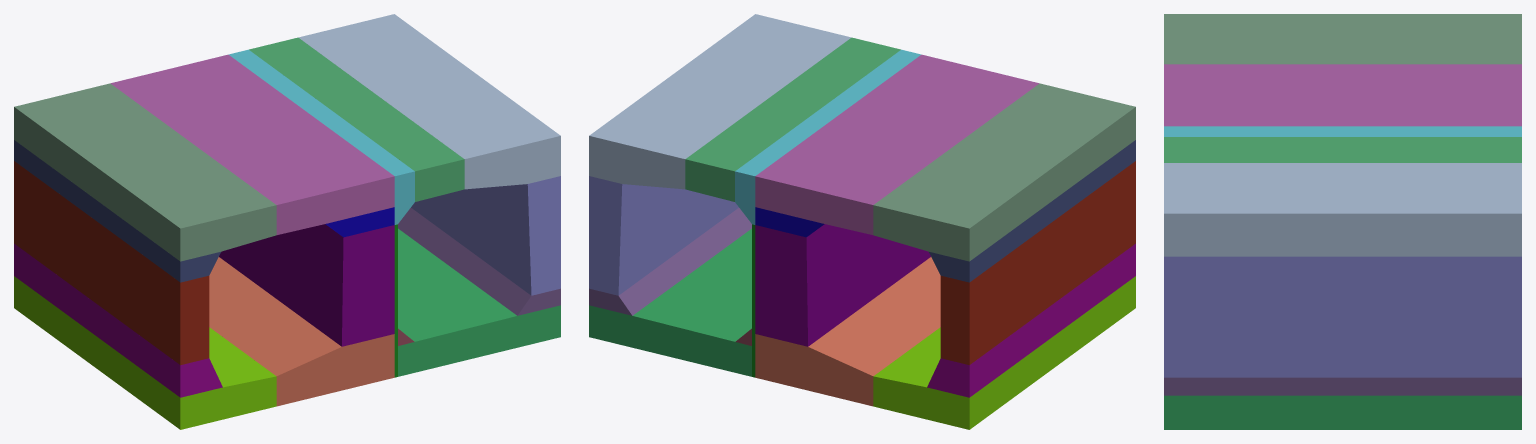
The model's file is hole_7.obj.
3 views of the same model, side by side, from view 1: azimuth 30°, elevation 25°; view 2: azimuth 150°, elevation 25°; view 3: azimuth 270°, elevation 25° (orthographic). The views are drawn at different scales.
Visible parts, largest first — view 1: geometry_0, geometry_7, geometry_6, geometry_15, geometry_11, geometry_9, geometry_10, geometry_12, geometry_4, geometry_3, geometry_14, geometry_1 (+4 smaller); view 2: geometry_0, geometry_7, geometry_6, geometry_15, geometry_11, geometry_9, geometry_10, geometry_12, geometry_4, geometry_3, geometry_14, geometry_1 (+4 smaller); view 3: geometry_12, geometry_6, geometry_7, geometry_0, geometry_10, geometry_3, geometry_1, geometry_2.
Boxes of the visible parts, left/top/right/bottom form: geometry_0: left=14, top=83, right=276, bottom=261; geometry_7: left=110, top=54, right=394, bottom=234; geometry_6: left=298, top=14, right=560, bottom=189; geometry_15: left=14, top=161, right=209, bottom=365; geometry_11: left=219, top=224, right=394, bottom=346; geometry_9: left=209, top=257, right=394, bottom=406; geometry_10: left=398, top=228, right=560, bottom=376; geometry_12: left=411, top=176, right=560, bottom=295; geometry_4: left=14, top=276, right=276, bottom=429; geometry_3: left=249, top=37, right=464, bottom=201; geometry_14: left=14, top=243, right=222, bottom=397; geometry_1: left=398, top=208, right=560, bottom=315; geometry_0: left=873, top=83, right=1135, bottom=261; geometry_7: left=755, top=54, right=1039, bottom=234; geometry_6: left=589, top=14, right=851, bottom=189; geometry_15: left=940, top=161, right=1135, bottom=365; geometry_11: left=755, top=224, right=930, bottom=346; geometry_9: left=755, top=257, right=940, bottom=406; geometry_10: left=589, top=228, right=751, bottom=376; geometry_12: left=589, top=176, right=738, bottom=295; geometry_4: left=873, top=276, right=1135, bottom=429; geometry_3: left=685, top=37, right=900, bottom=201; geometry_14: left=927, top=243, right=1135, bottom=397; geometry_1: left=589, top=208, right=751, bottom=315; geometry_12: left=1164, top=256, right=1521, bottom=377; geometry_6: left=1164, top=163, right=1521, bottom=256; geometry_7: left=1164, top=64, right=1521, bottom=126; geometry_0: left=1164, top=14, right=1521, bottom=64; geometry_10: left=1164, top=395, right=1521, bottom=429; geometry_3: left=1164, top=137, right=1521, bottom=162; geometry_1: left=1164, top=377, right=1521, bottom=395; geometry_2: left=1164, top=126, right=1521, bottom=136.
Size of the model in its own units: 0.066 by 0.0334 by 0.05.
